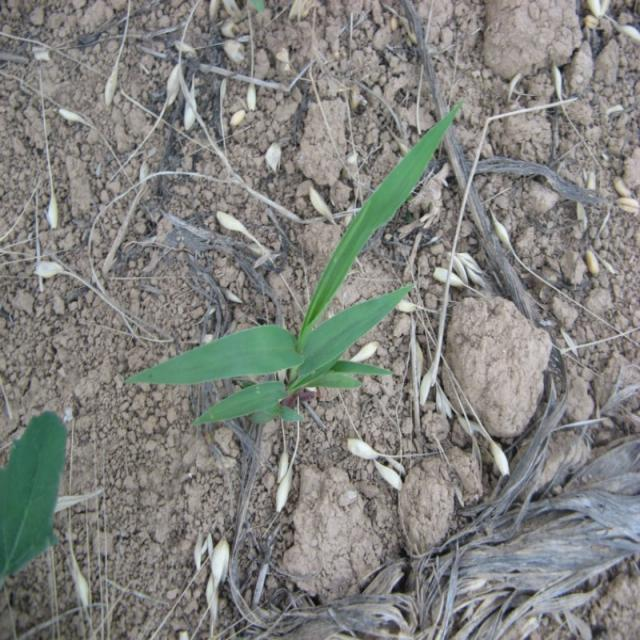bg: (128, 92, 456, 429)
